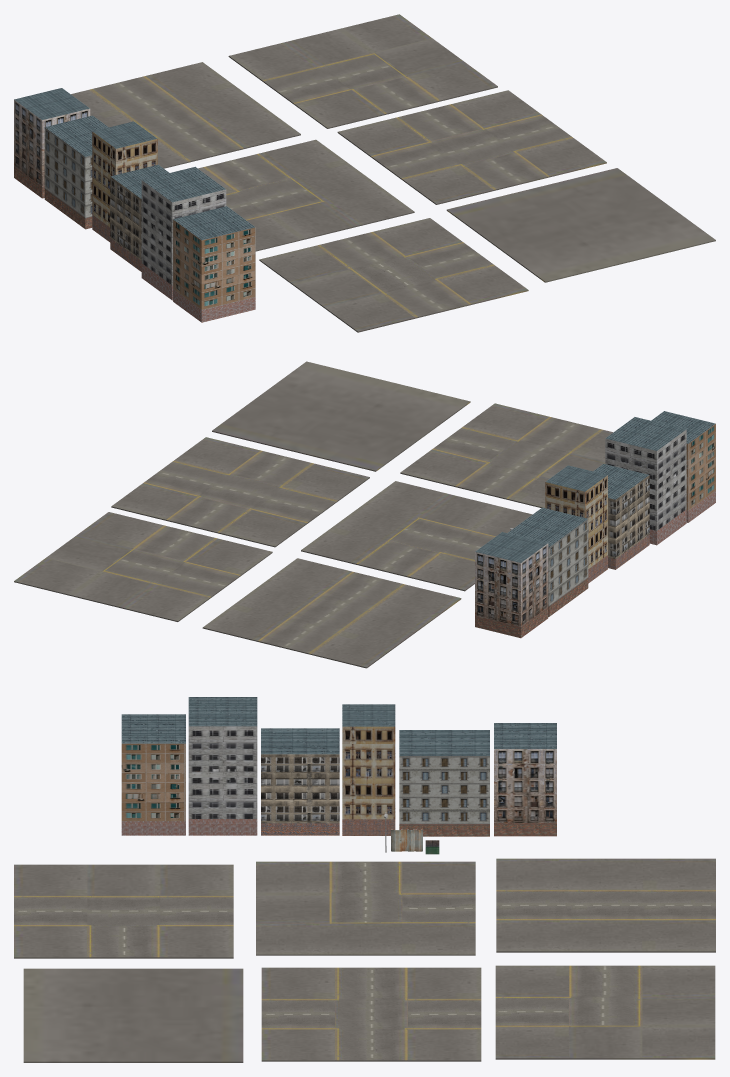
Rendered from CityProps.fbx.
The picture shows the model from 3 angles, top to bottom: view 1: azimuth 30°, elevation 25°; view 2: azimuth 150°, elevation 25°; view 3: azimuth 270°, elevation 25°; orthographic projection. The views are drawn at different scales.
Visible parts, largest first — view 1: RoadLeft, RoadThreeLane, Street, RoadCross, RoadRight, RoadStraight, Building6, Building5, Building2, Building1, Building3, Building4; view 2: RoadCross, RoadLeft, RoadStraight, Street, RoadRight, RoadThreeLane, Building1, Building5, Building2, Building3, Building4, Building6; view 3: RoadCross, RoadLeft, Street, RoadRight, RoadStraight, RoadThreeLane, Building5, Building2, Building4, Building6, Building1, Building3 (+1 smaller).
Part boxes in pixels (x1,y1,x2,y2): RoadLeft: (228, 14, 497, 128); RoadThreeLane: (259, 218, 528, 332); Street: (446, 168, 715, 282); RoadCross: (337, 90, 606, 204); RoadRight: (198, 139, 414, 251); RoadStraight: (71, 62, 300, 168); Building6: (173, 206, 255, 322); Building5: (141, 166, 226, 300); Building2: (44, 115, 108, 229); Building1: (14, 88, 90, 198); Building3: (92, 121, 157, 242); Building4: (110, 164, 169, 271); RoadCross: (111, 437, 369, 547); RoadLeft: (14, 512, 272, 621); RoadStraight: (202, 558, 461, 668); Street: (212, 361, 470, 471); RoadRight: (301, 481, 532, 591); RoadThreeLane: (400, 403, 612, 507); Building1: (475, 532, 548, 638); Building5: (605, 417, 686, 545); Building2: (507, 507, 588, 616); Building3: (545, 465, 607, 583); Building4: (593, 464, 649, 569); Building6: (651, 411, 715, 522); RoadCross: (261, 967, 481, 1061); RoadLeft: (495, 965, 715, 1059); Street: (23, 968, 243, 1062); RoadRight: (256, 861, 475, 955); RoadStraight: (496, 858, 715, 952); RoadThreeLane: (14, 864, 233, 958); Building5: (188, 697, 257, 835); Building2: (399, 730, 489, 836); Building4: (261, 728, 339, 835); Building6: (121, 714, 185, 835); Building1: (494, 723, 556, 836); Building3: (342, 704, 395, 835).
Size of the model in its own units: 8923 by 1796 by 10356.
